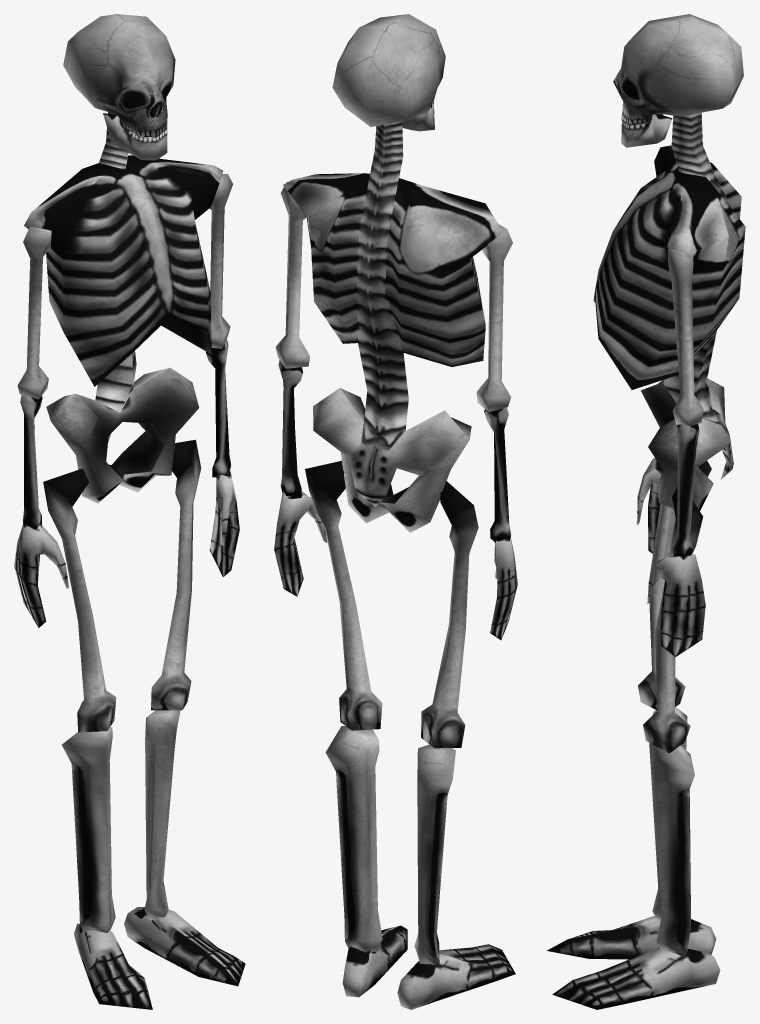
File: Esqueleto1.obj
3 views of the same model, side by side, from view 1: azimuth 30°, elevation 25°; view 2: azimuth 150°, elevation 25°; view 3: azimuth 270°, elevation 25° (orthographic). The views are drawn at different scales.
Visible parts, largest first — view 1: Cube.001; view 2: Cube.001; view 3: Cube.001.
Boxes of the visible parts, x1,y1,x2,y2 form: Cube.001: (14,14,245,1009); Cube.001: (274,14,517,1009); Cube.001: (546,14,745,1009).
Size of the model in its own units: 0.4494 by 1.82 by 0.3455.
Materials: 1 (1 with a texture image).
